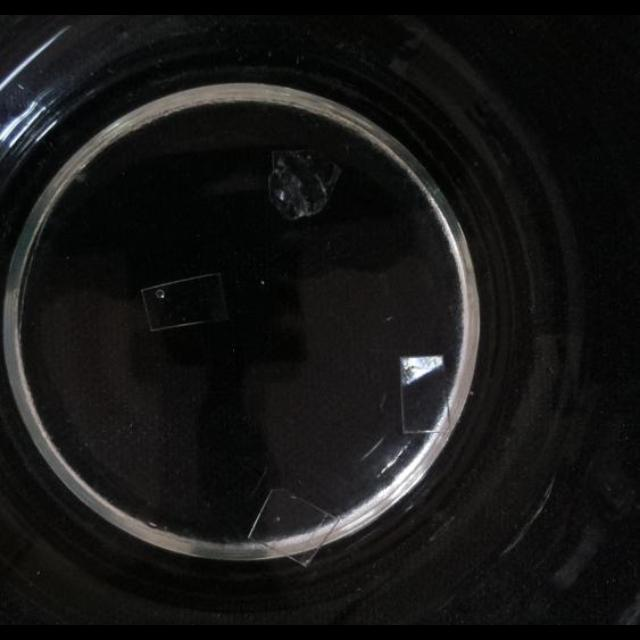Film: (246, 487, 338, 567), (140, 272, 230, 332), (397, 350, 457, 438)
Fragment: (266, 132, 340, 222)
